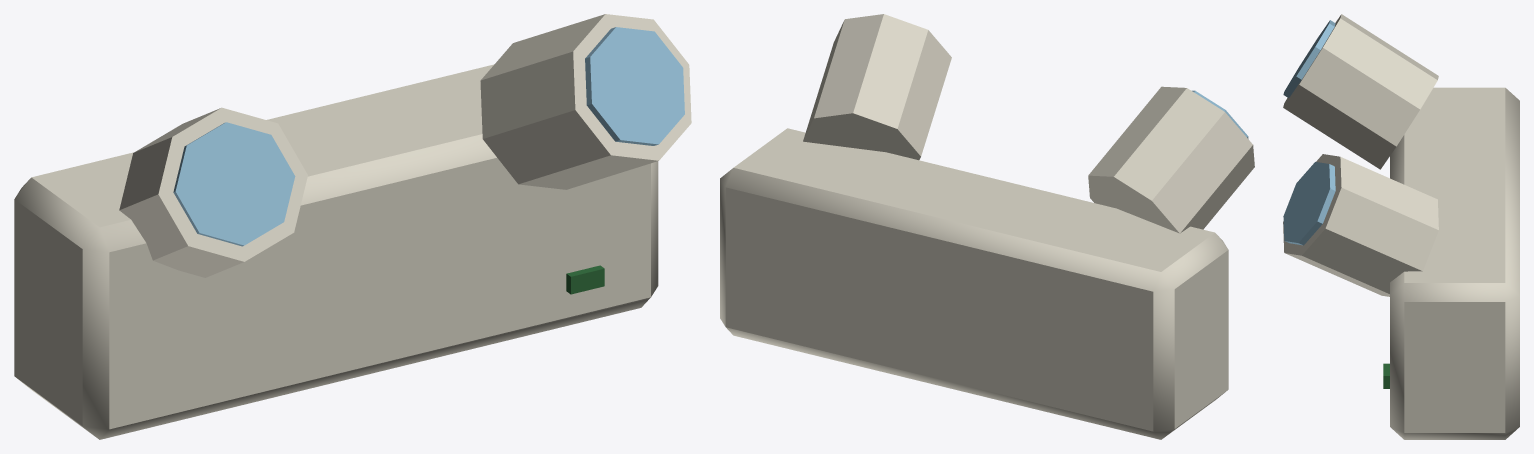
File: emergency_light.glb
The picture shows the model from 3 angles, left to right: view 1: azimuth 30°, elevation 25°; view 2: azimuth 150°, elevation 25°; view 3: azimuth 270°, elevation 25°; orthographic projection. The views are drawn at different scales.
Visible parts, largest first — view 1: EmLight; view 2: EmLight; view 3: EmLight.
Part boxes in pixels (x1=…): EmLight: x1=14, y1=14, x2=691, y2=439; EmLight: x1=720, y1=14, x2=1254, y2=439; EmLight: x1=1283, y1=14, x2=1519, y2=439.
Bounding box in the file's own units: 0.34 × 0.1946 × 0.164.
